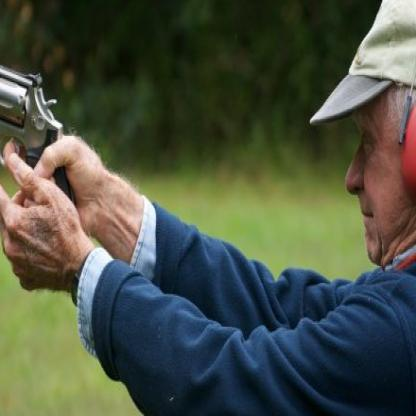gun: (0, 13, 91, 311)
